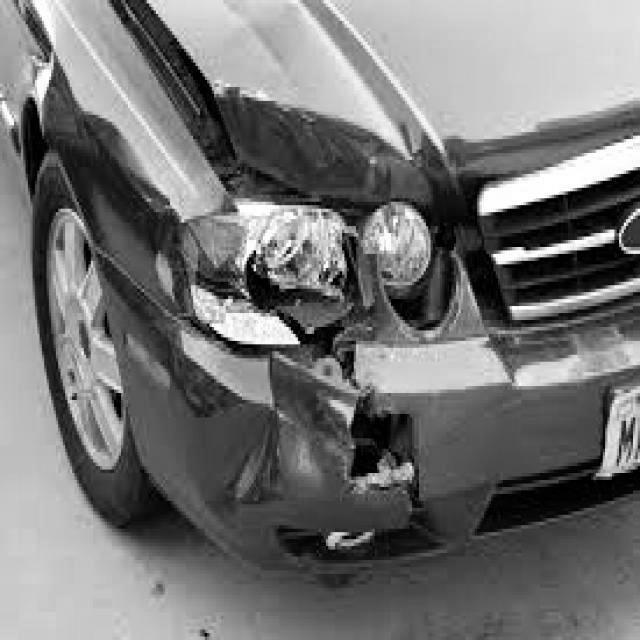Headlight-damage: (137, 171, 395, 338)
fender-dent: (0, 1, 168, 360)
front-bumper-dent: (112, 300, 498, 585)
